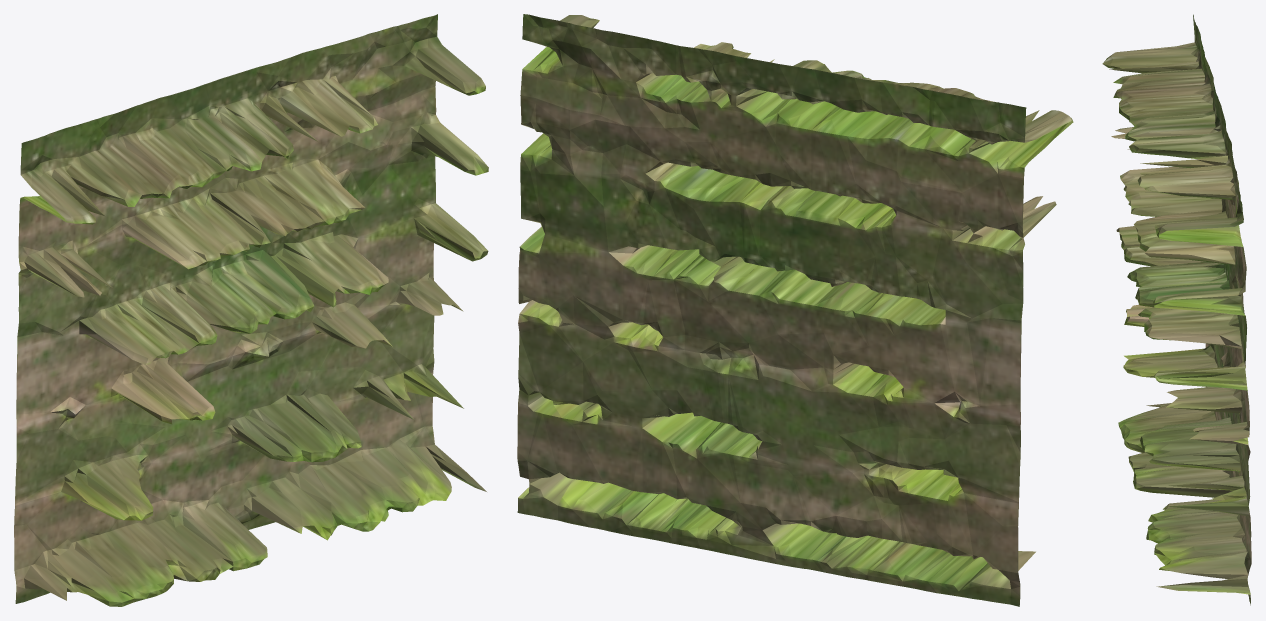
The model's file is map_220_60.obj.
3 renders of one model, left to right at view 1: azimuth 30°, elevation 25°; view 2: azimuth 150°, elevation 25°; view 3: azimuth 270°, elevation 25°, orthographic. The views are drawn at different scales.
Visible parts, largest first — view 1: grp1; view 2: grp1; view 3: grp1.
Part boxes in pixels (box(x1,y1,x2,y2)): grp1: box(14, 14, 488, 606); grp1: box(517, 14, 1073, 606); grp1: box(1102, 14, 1251, 605).
Size of the model in its own units: 10 by 10 by 3.35.
Materials: 1 (1 with a texture image).
